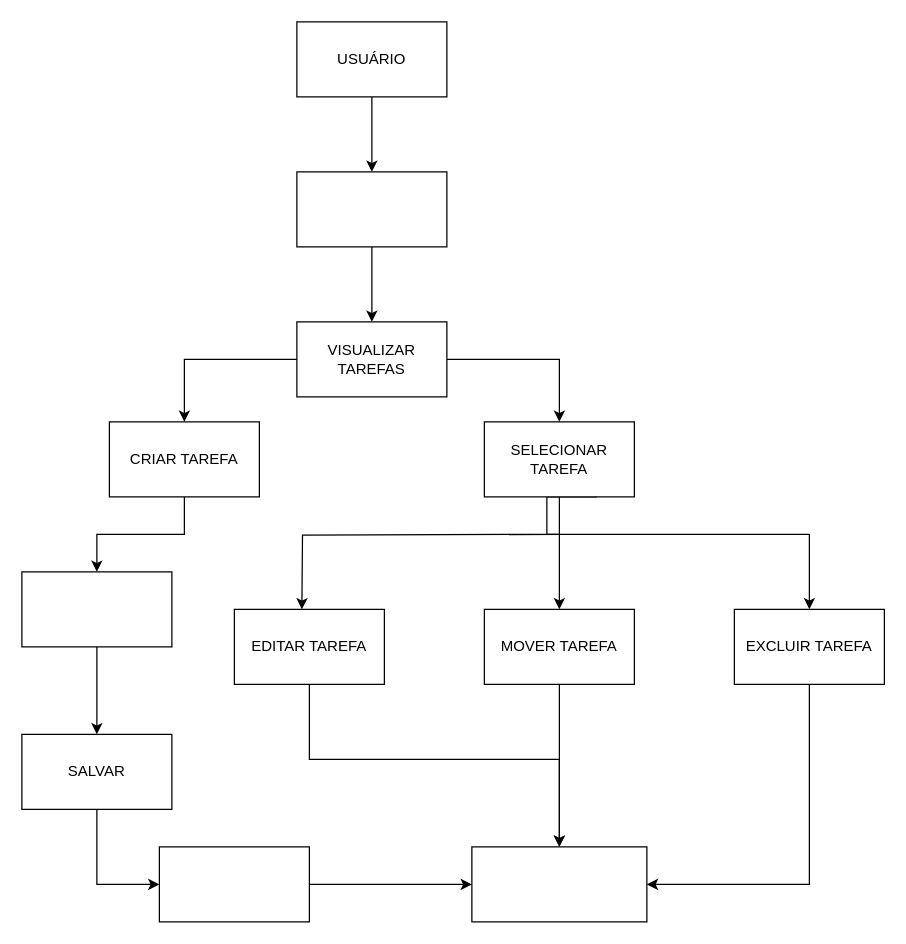
The diagram is 906 pixels wide and 944 high, and some of its shapes have lost their labels. The shapes that lost their labels are listed below. From the top down, each one's centre as x and y in pixels, then its label:
At [371,209]: "ABRIR KANBAN".
At [96,609]: "PREENCHER DADOS".
At [233,884]: "TAREFA CRIADA".
At [559,884]: "ATUALIZAR KANBAN".
